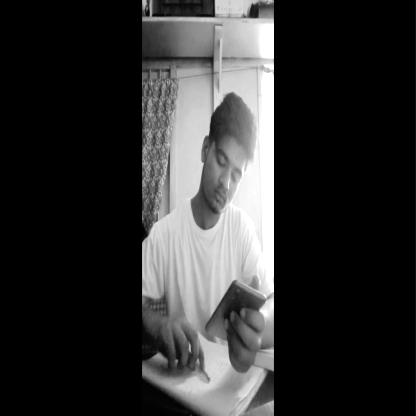Distracted: (205, 92, 253, 218)
